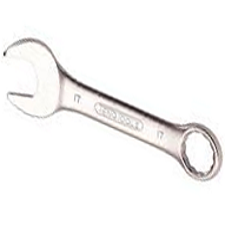wrench: (2, 33, 221, 186)
